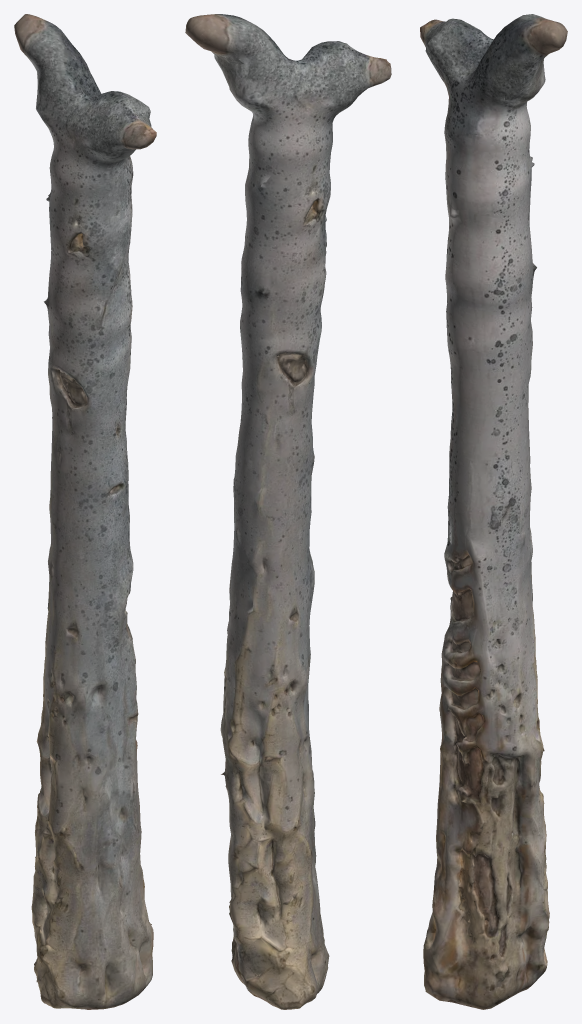
File: TreeDead.glb
3 views of the same model, side by side, from view 1: azimuth 90°, elevation 25°; view 2: azimuth 150°, elevation 25°; view 3: azimuth 270°, elevation 25° (orthographic). The views are drawn at different scales.
Parts seen in each view (by area): view 1: dead_quiver_trunk_LOD0; view 2: dead_quiver_trunk_LOD0; view 3: dead_quiver_trunk_LOD0.
Part boxes in pixels (x1,y1,x2,y2): dead_quiver_trunk_LOD0: [14, 14, 156, 1009]; dead_quiver_trunk_LOD0: [185, 14, 391, 1009]; dead_quiver_trunk_LOD0: [420, 14, 567, 1009].
Bounding box in the file's own units: 0.3065 × 1.99 × 0.268.
1 material, 1 textured.
